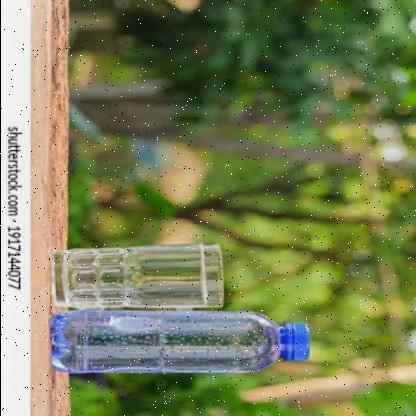Plastic Bottle: (49, 311, 309, 374)
